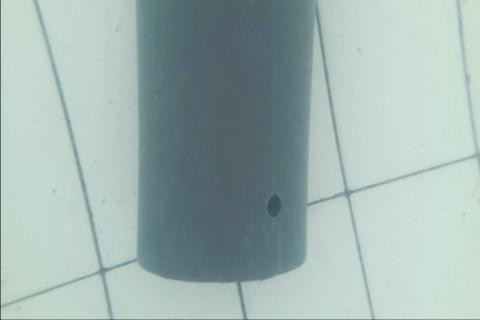kebocoran: (266, 193, 281, 220)
